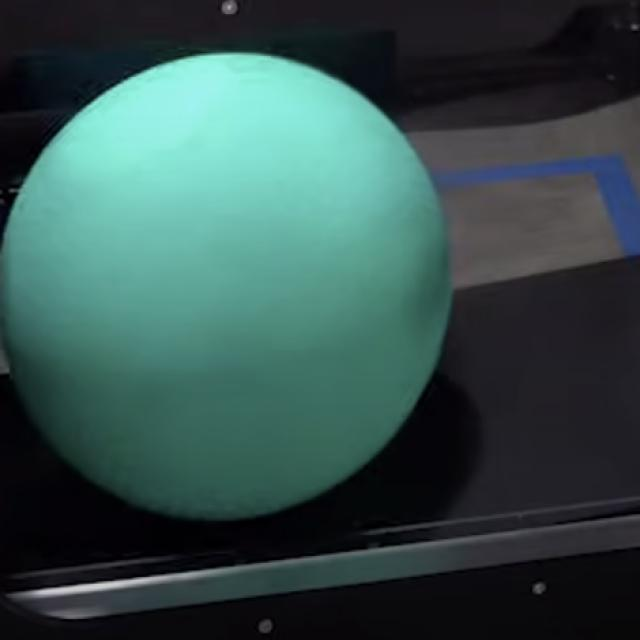Algae: (0, 54, 451, 519)
